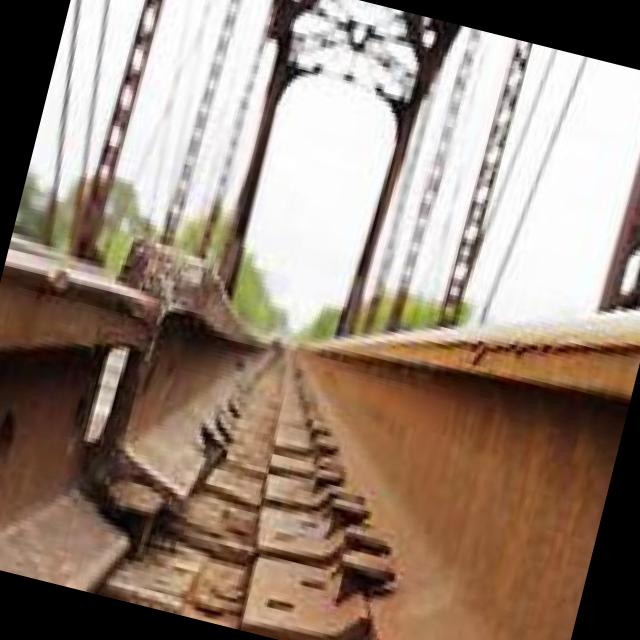defective: (0, 85, 346, 585)
